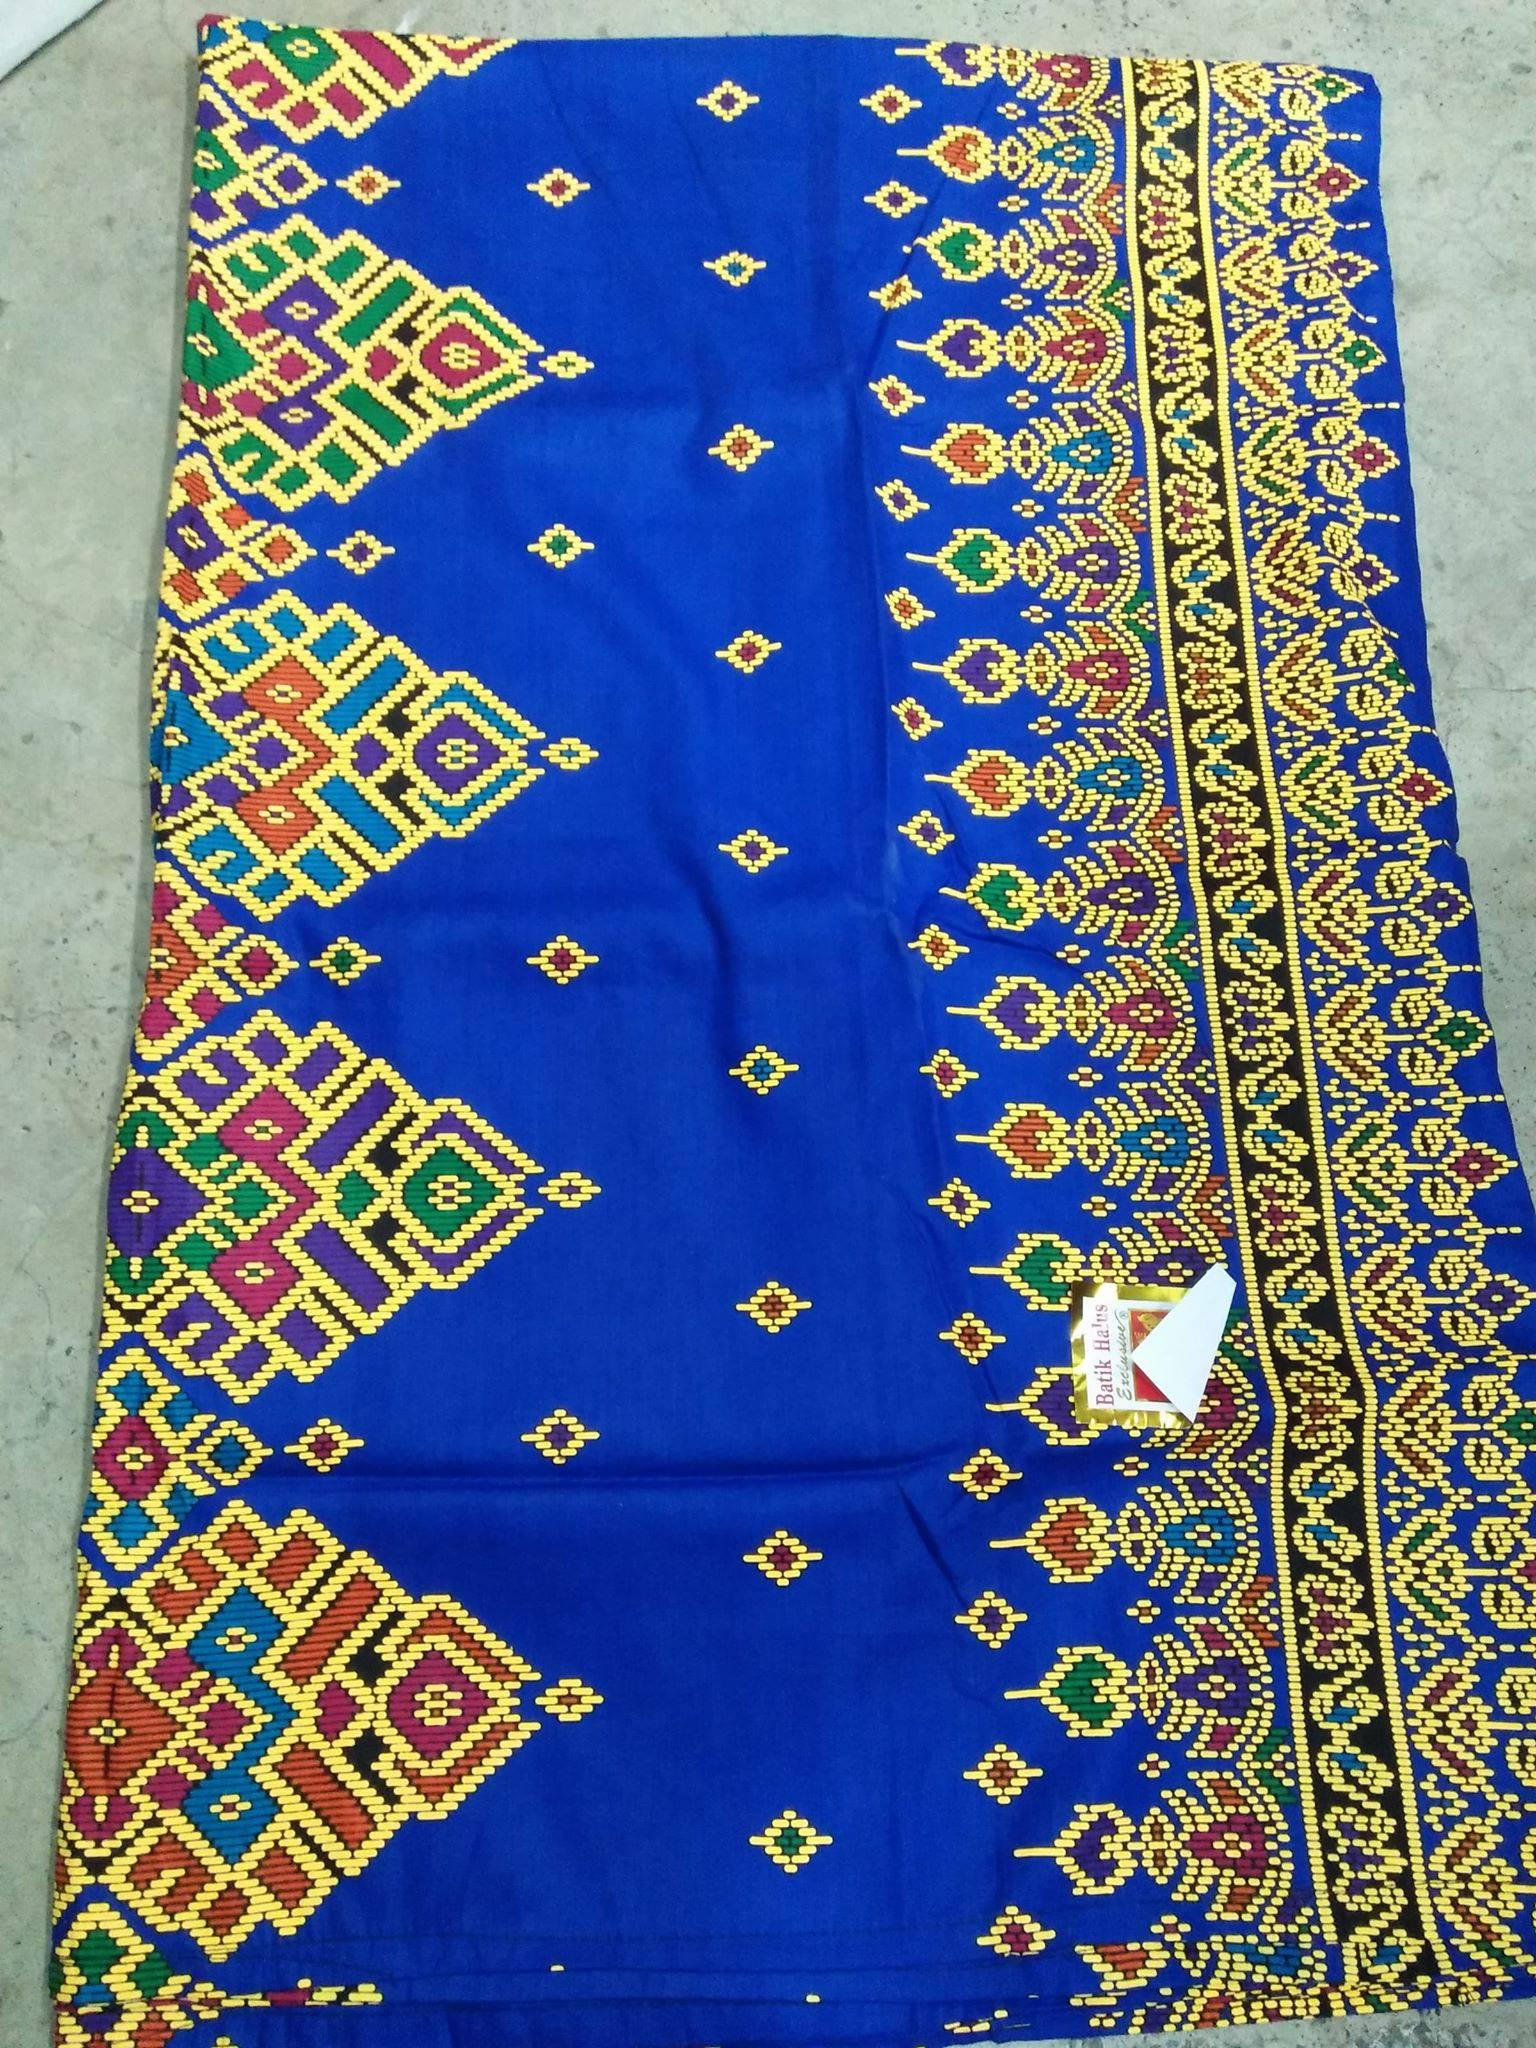malong: (37, 0, 1536, 2048)
